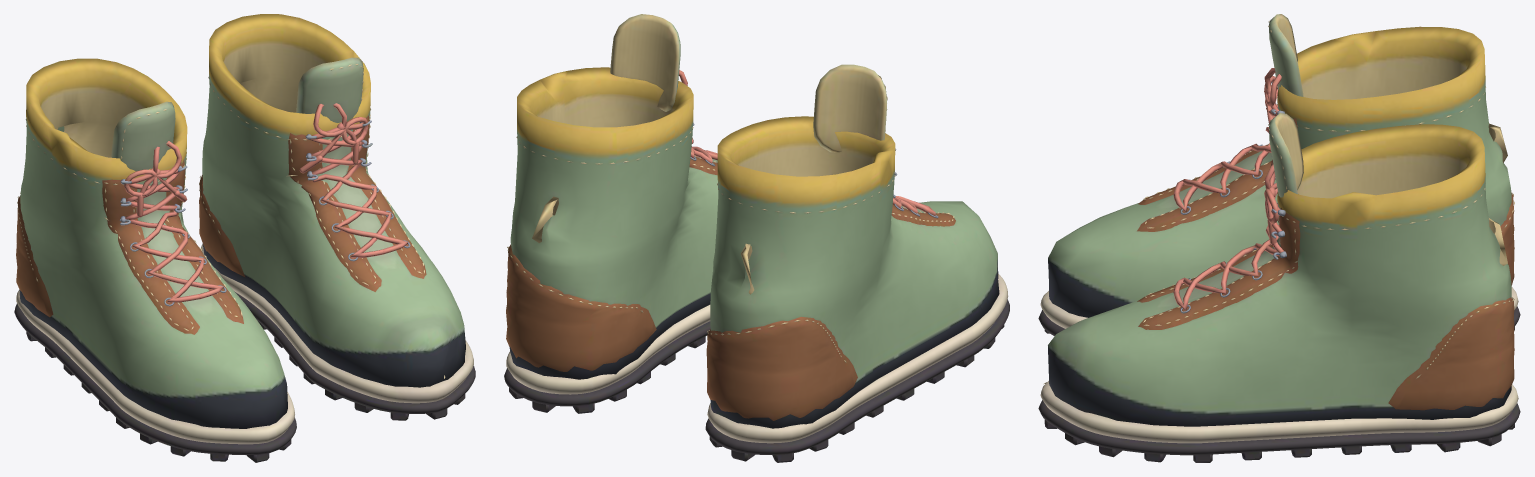
The model's file is zapatos_m5.glb.
The picture shows the model from 3 angles, left to right: view 1: azimuth 30°, elevation 25°; view 2: azimuth 150°, elevation 25°; view 3: azimuth 270°, elevation 25°; orthographic projection. The views are drawn at different scales.
Visible parts, largest first — view 1: hiking-boots_body; view 2: hiking-boots_body; view 3: hiking-boots_body.
Boxes of the visible parts, x1=… form: hiking-boots_body: x1=14, y1=14, x2=475, y2=462; hiking-boots_body: x1=504, y1=14, x2=1009, y2=462; hiking-boots_body: x1=1038, y1=14, x2=1520, y2=462.
Bounding box in the file's own units: 0.2604 × 0.2113 × 0.3.
Materials: 1 (1 with a texture image).
